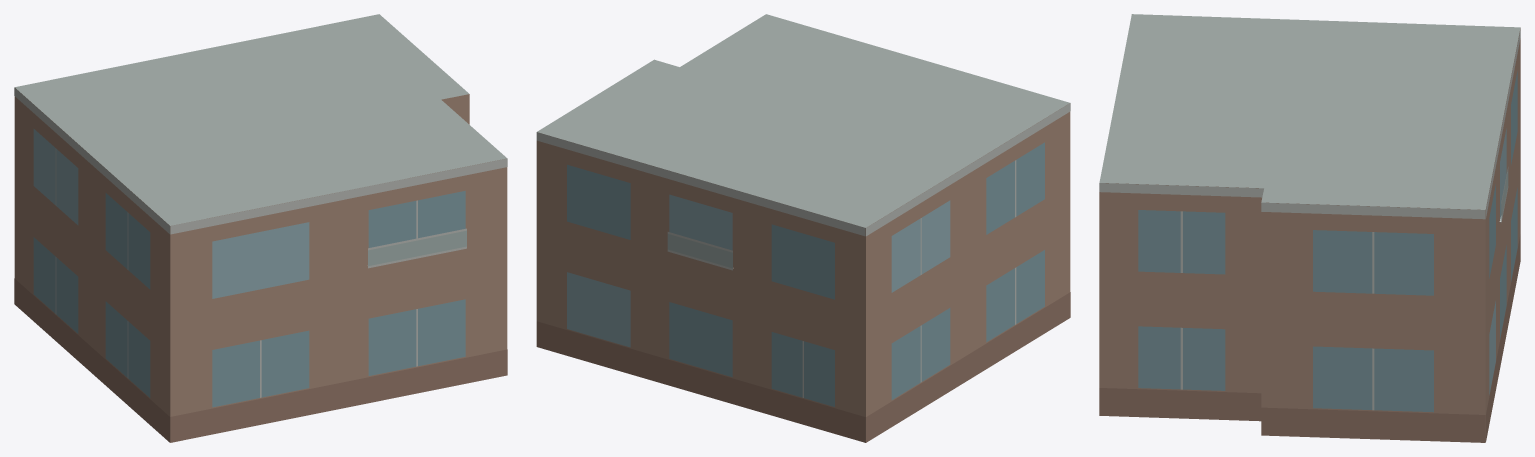
Rendered from survey-upis-32815759.glb.
The picture shows the model from 3 angles, left to right: view 1: azimuth 30°, elevation 25°; view 2: azimuth 150°, elevation 25°; view 3: azimuth 270°, elevation 25°; orthographic projection. The views are drawn at different scales.
Parts seen in each view (by area): view 1: survey-upis-32815759.tmp; view 2: survey-upis-32815759.tmp; view 3: survey-upis-32815759.tmp.
Boxes of the visible parts, x1,y1,x2,y2 form: survey-upis-32815759.tmp: [14, 14, 507, 442]; survey-upis-32815759.tmp: [536, 14, 1070, 442]; survey-upis-32815759.tmp: [1099, 14, 1520, 442].
Size of the model in its own units: 11.02 by 6.1 by 10.01.
